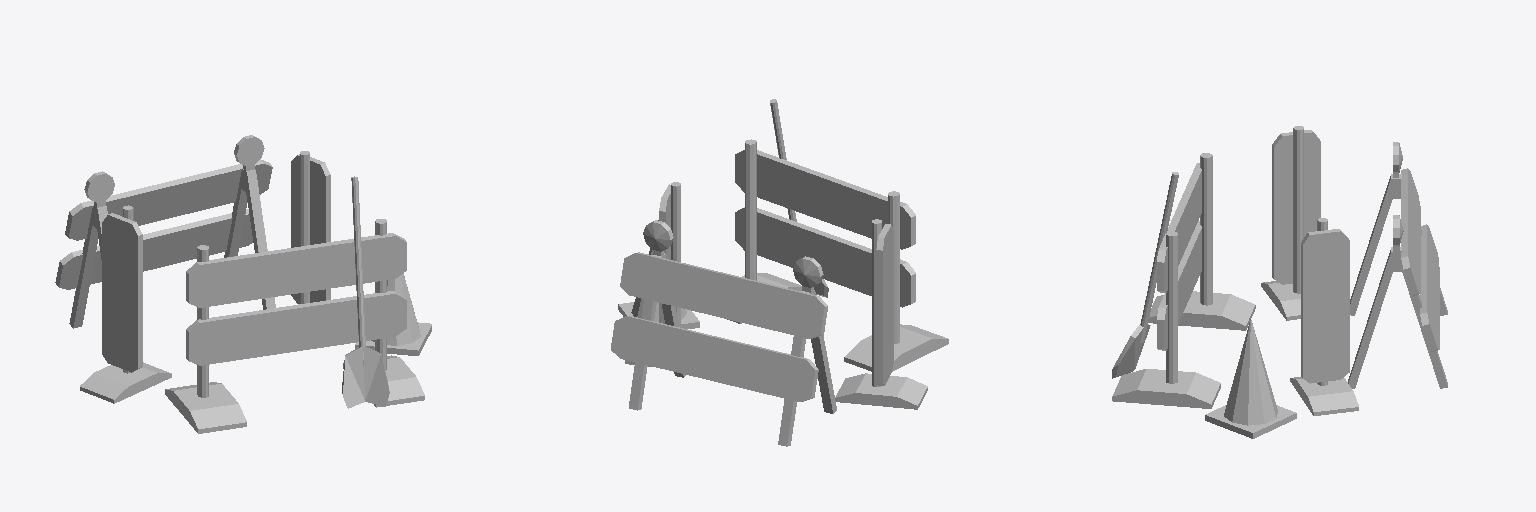
The model's file is Roadwork3.obj.
3 renders of one model, left to right at view 1: azimuth 30°, elevation 25°; view 2: azimuth 150°, elevation 25°; view 3: azimuth 270°, elevation 25°, orthographic.
Parts seen in each view (by area): view 1: Barrier3_polySurface30; view 2: Barrier3_polySurface30; view 3: Barrier3_polySurface30.
Part boxes in pixels (bbox=[...]): Barrier3_polySurface30: bbox=[55, 135, 431, 433]; Barrier3_polySurface30: bbox=[611, 99, 948, 446]; Barrier3_polySurface30: bbox=[1112, 126, 1447, 438].
Bounding box in the file's own units: 3.14 × 1.95 × 2.81.